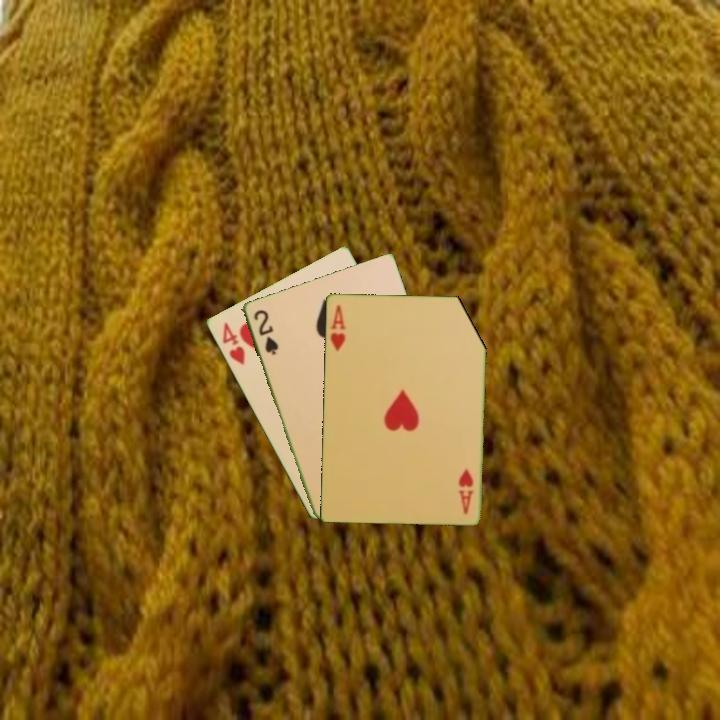2s: (250, 306, 281, 358)
4h: (218, 318, 248, 368)
Ah: (327, 301, 348, 353), (456, 465, 476, 517)
